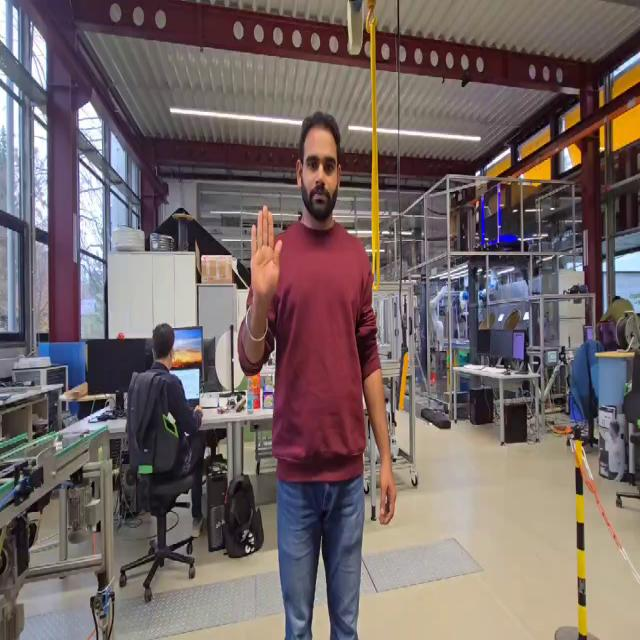open_palm: (245, 201, 285, 321)
